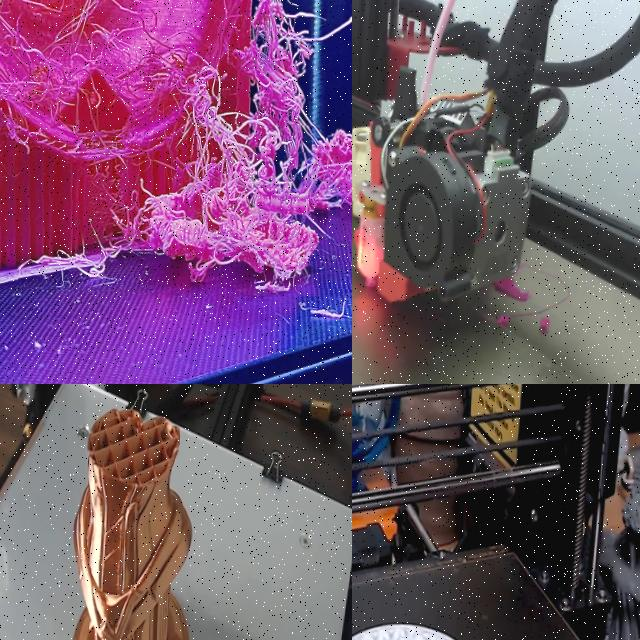spaghetti: (0, 0, 352, 302), (493, 276, 530, 300), (497, 314, 509, 326), (540, 318, 548, 331)
